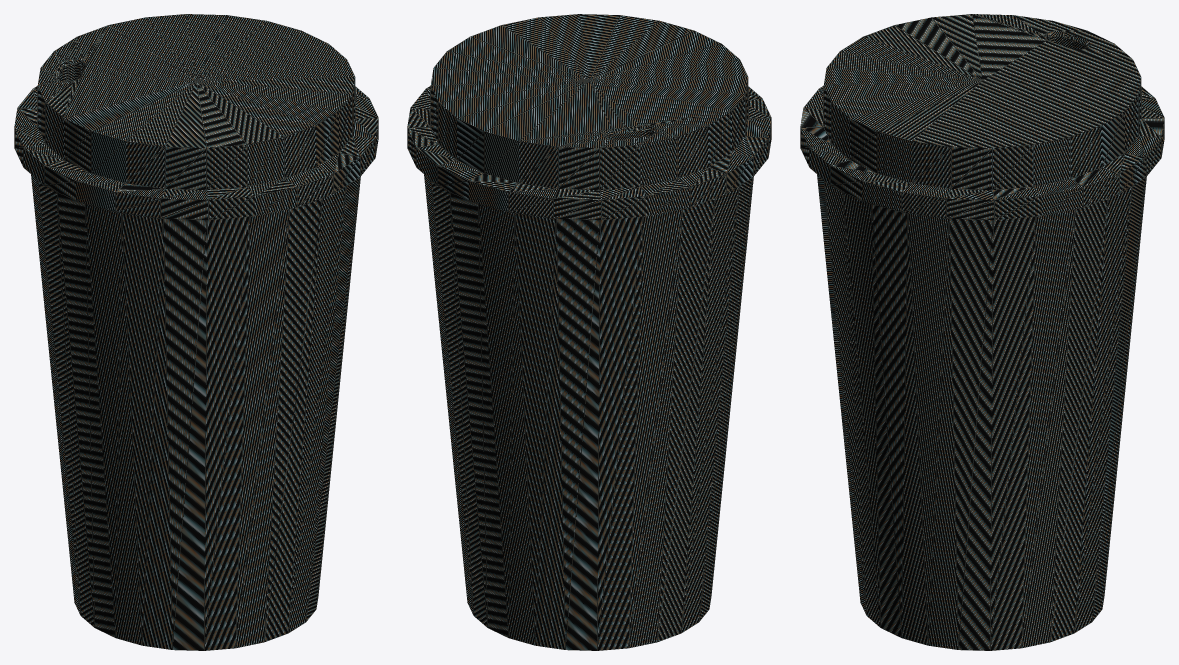
Rendered from cup.gltf.
3 views of the same model, side by side, from view 1: azimuth 30°, elevation 25°; view 2: azimuth 150°, elevation 25°; view 3: azimuth 270°, elevation 25° (orthographic).
Parts seen in each view (by area): view 1: COCKPIT_COFFEE; view 2: COCKPIT_COFFEE; view 3: COCKPIT_COFFEE.
Part boxes in pixels (box(x1,y1,x2,y2)): COCKPIT_COFFEE: box(14, 14, 378, 650); COCKPIT_COFFEE: box(407, 14, 771, 650); COCKPIT_COFFEE: box(800, 14, 1164, 650).
Size of the model in its own units: 0.09 by 0.1412 by 0.09.
